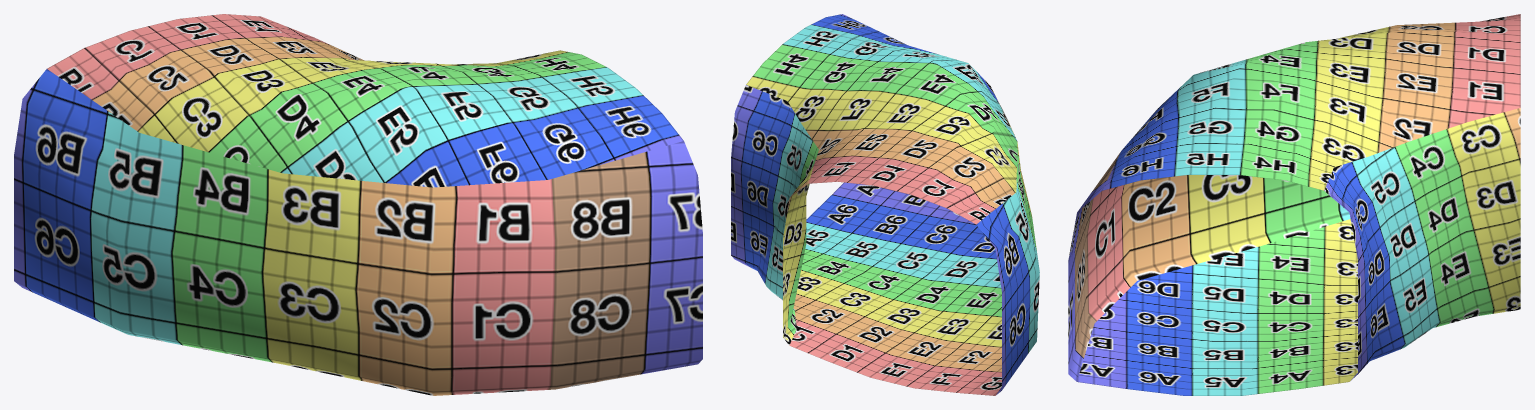
The model's file is grotte_90.fbx.
The picture shows the model from 3 angles, left to right: view 1: azimuth 30°, elevation 25°; view 2: azimuth 150°, elevation 25°; view 3: azimuth 270°, elevation 25°; orthographic projection. The views are drawn at different scales.
Visible parts, largest first — view 1: grotte_90; view 2: grotte_90; view 3: grotte_90.
Boxes of the visible parts, x1,y1,x2,y2 form: grotte_90: (14,14,702,395); grotte_90: (731,14,1039,395); grotte_90: (1068,14,1520,395).
Bounding box in the file's own units: 702 × 419 × 702.
1 material, 1 textured.
